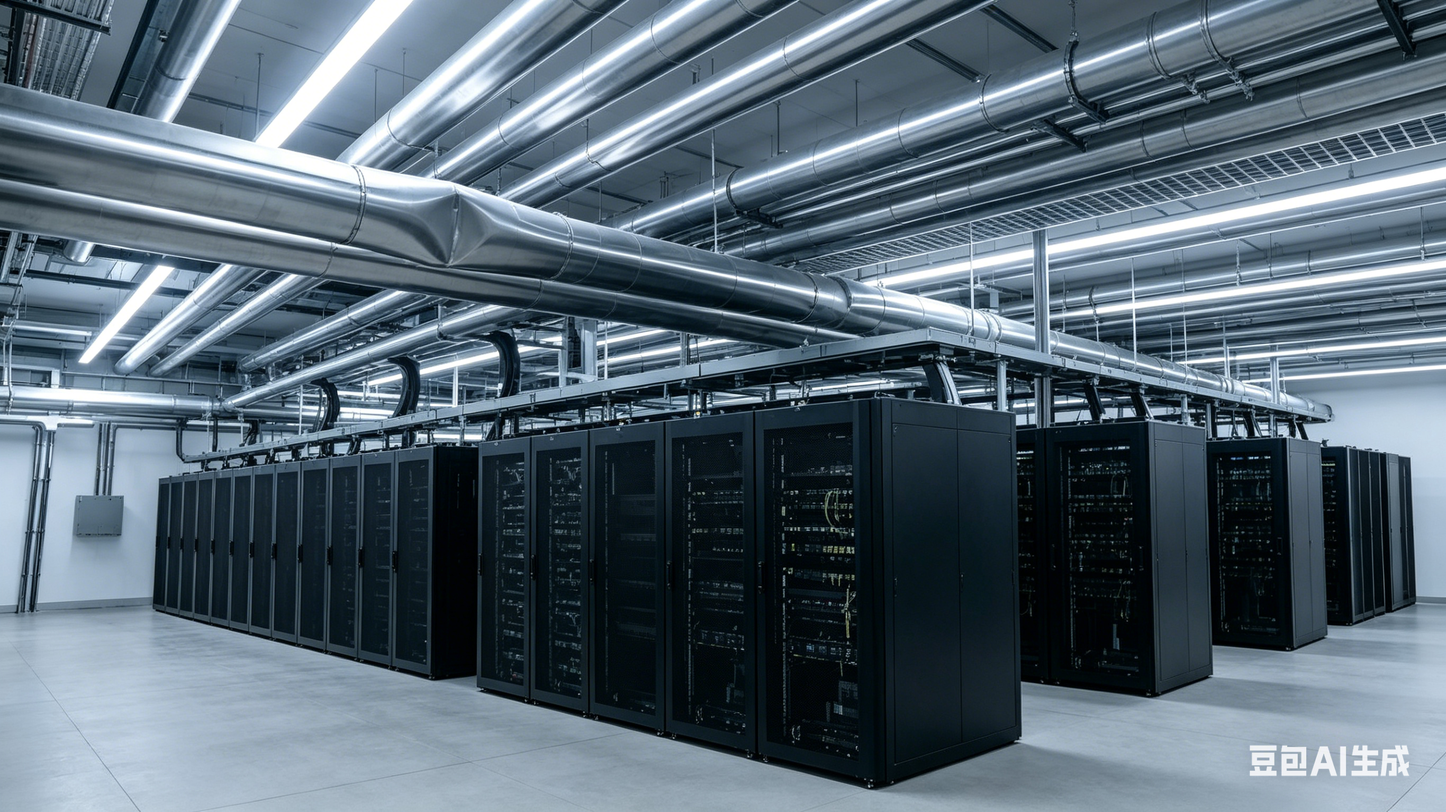Leakage: (405, 178, 488, 273)
